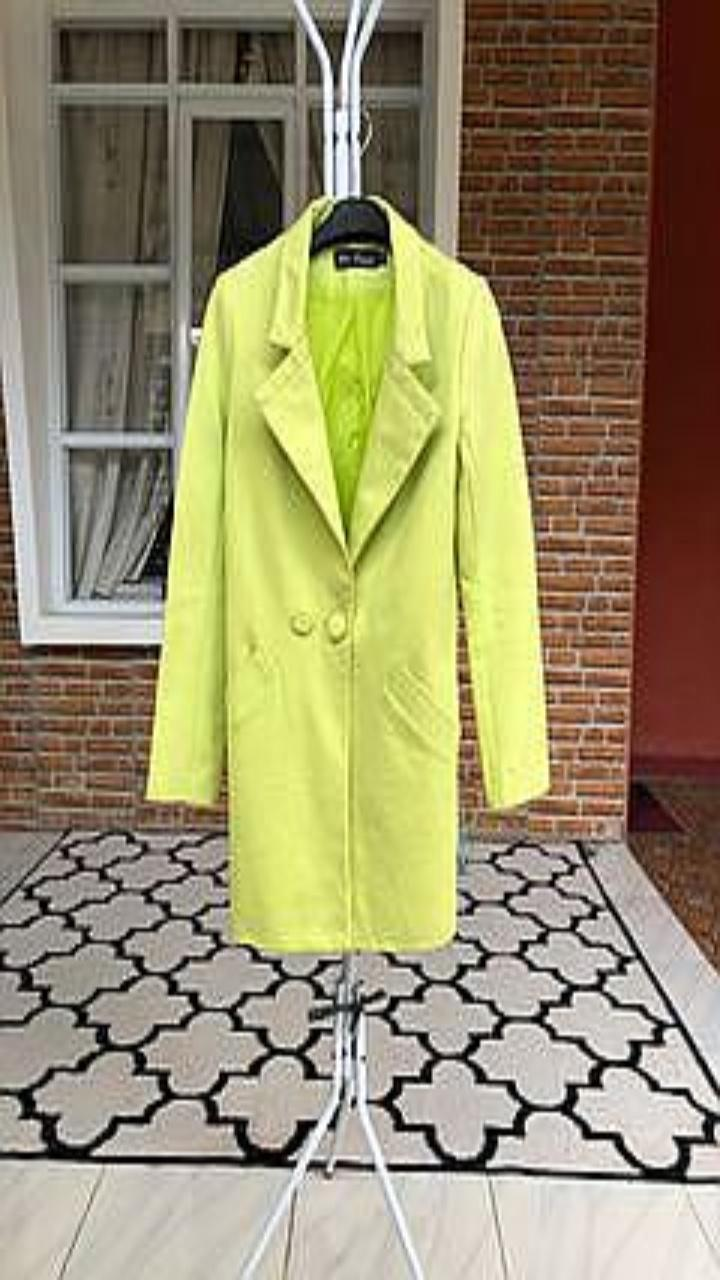Coat: (145, 196, 549, 951)
